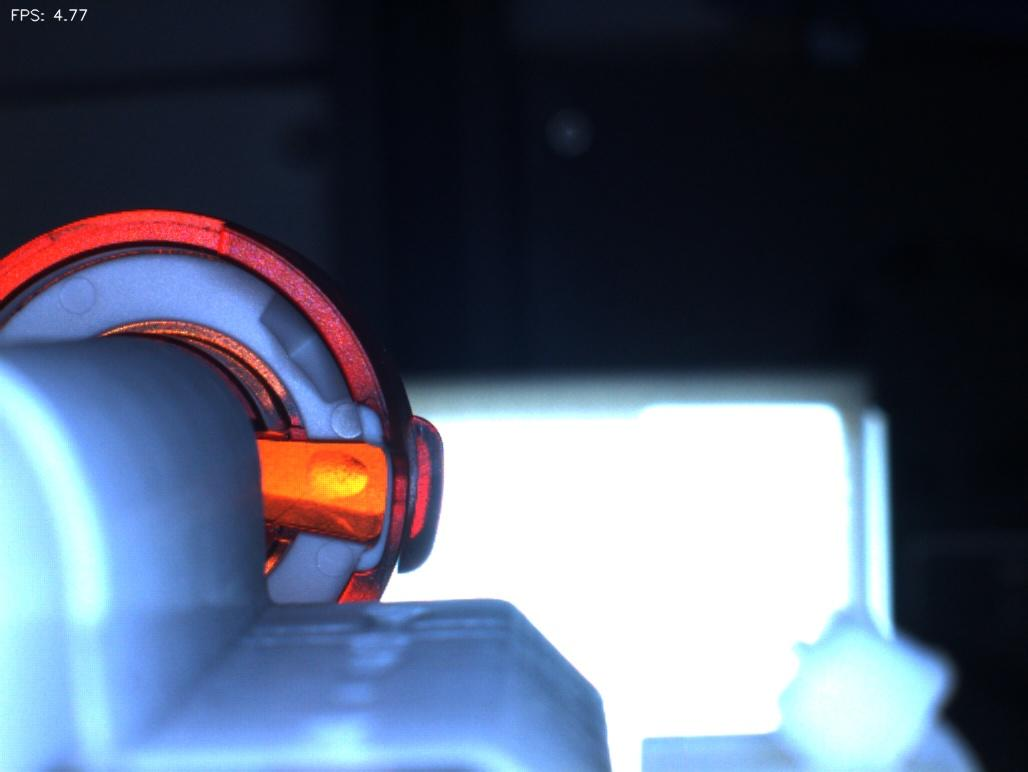Retassure: (292, 441, 381, 518)
